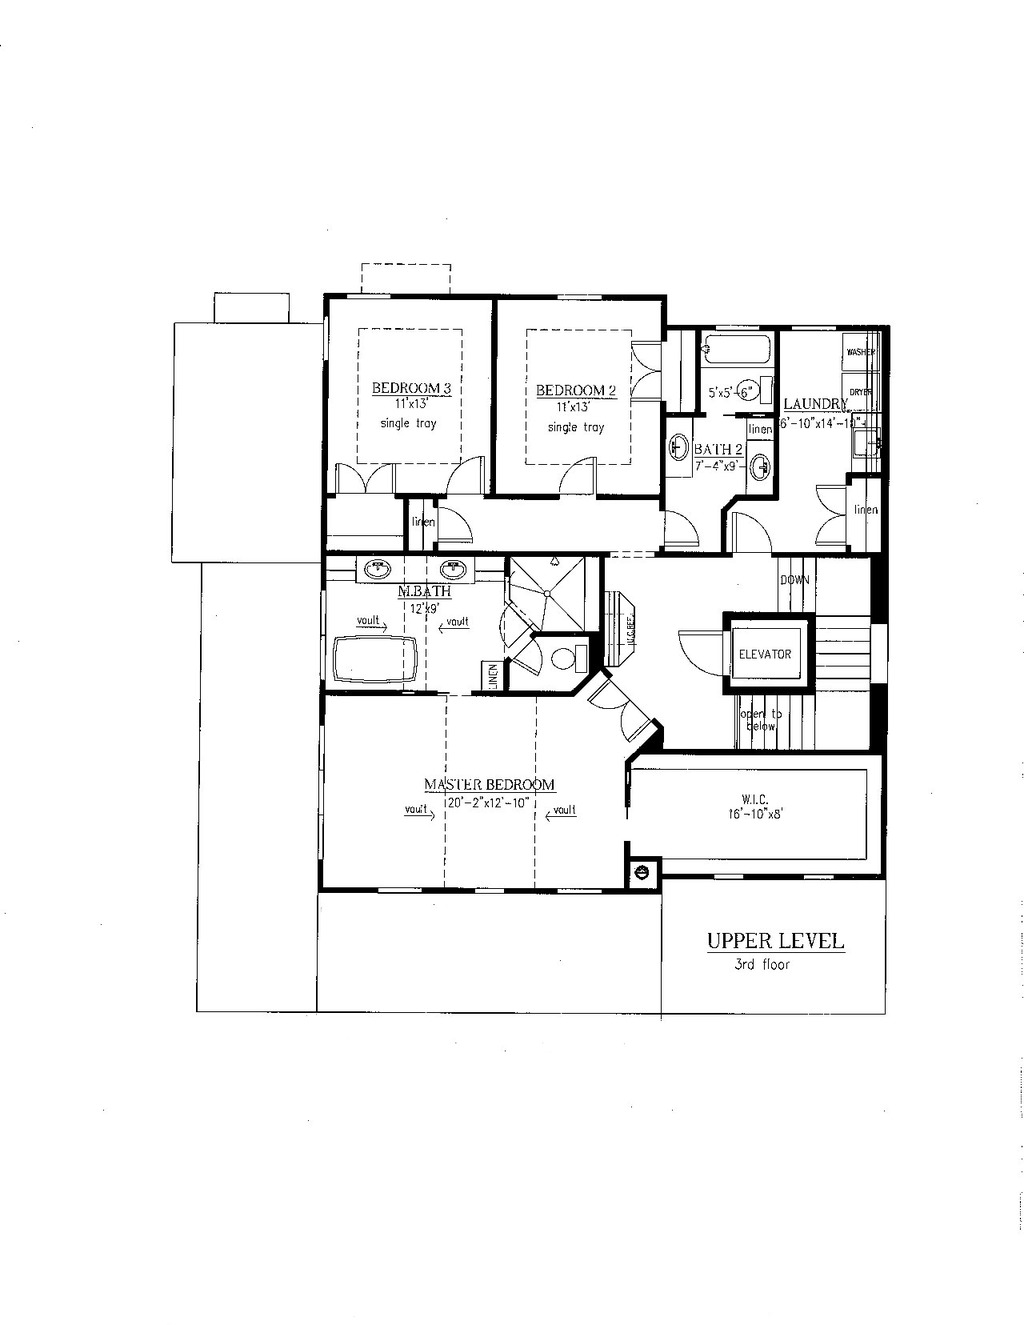door: (589, 670, 649, 745), (673, 624, 728, 687), (631, 334, 669, 407), (811, 479, 851, 546), (725, 508, 779, 557), (553, 457, 603, 500), (335, 459, 396, 494), (441, 457, 490, 494), (658, 505, 701, 546), (437, 502, 480, 543), (496, 608, 532, 645)
large_sink: (546, 631, 596, 674), (733, 373, 776, 415)
small_sink: (741, 438, 776, 494), (358, 553, 406, 581), (428, 553, 475, 581)
stairs: (727, 555, 877, 750)
tub: (328, 633, 419, 688), (689, 326, 780, 369)
